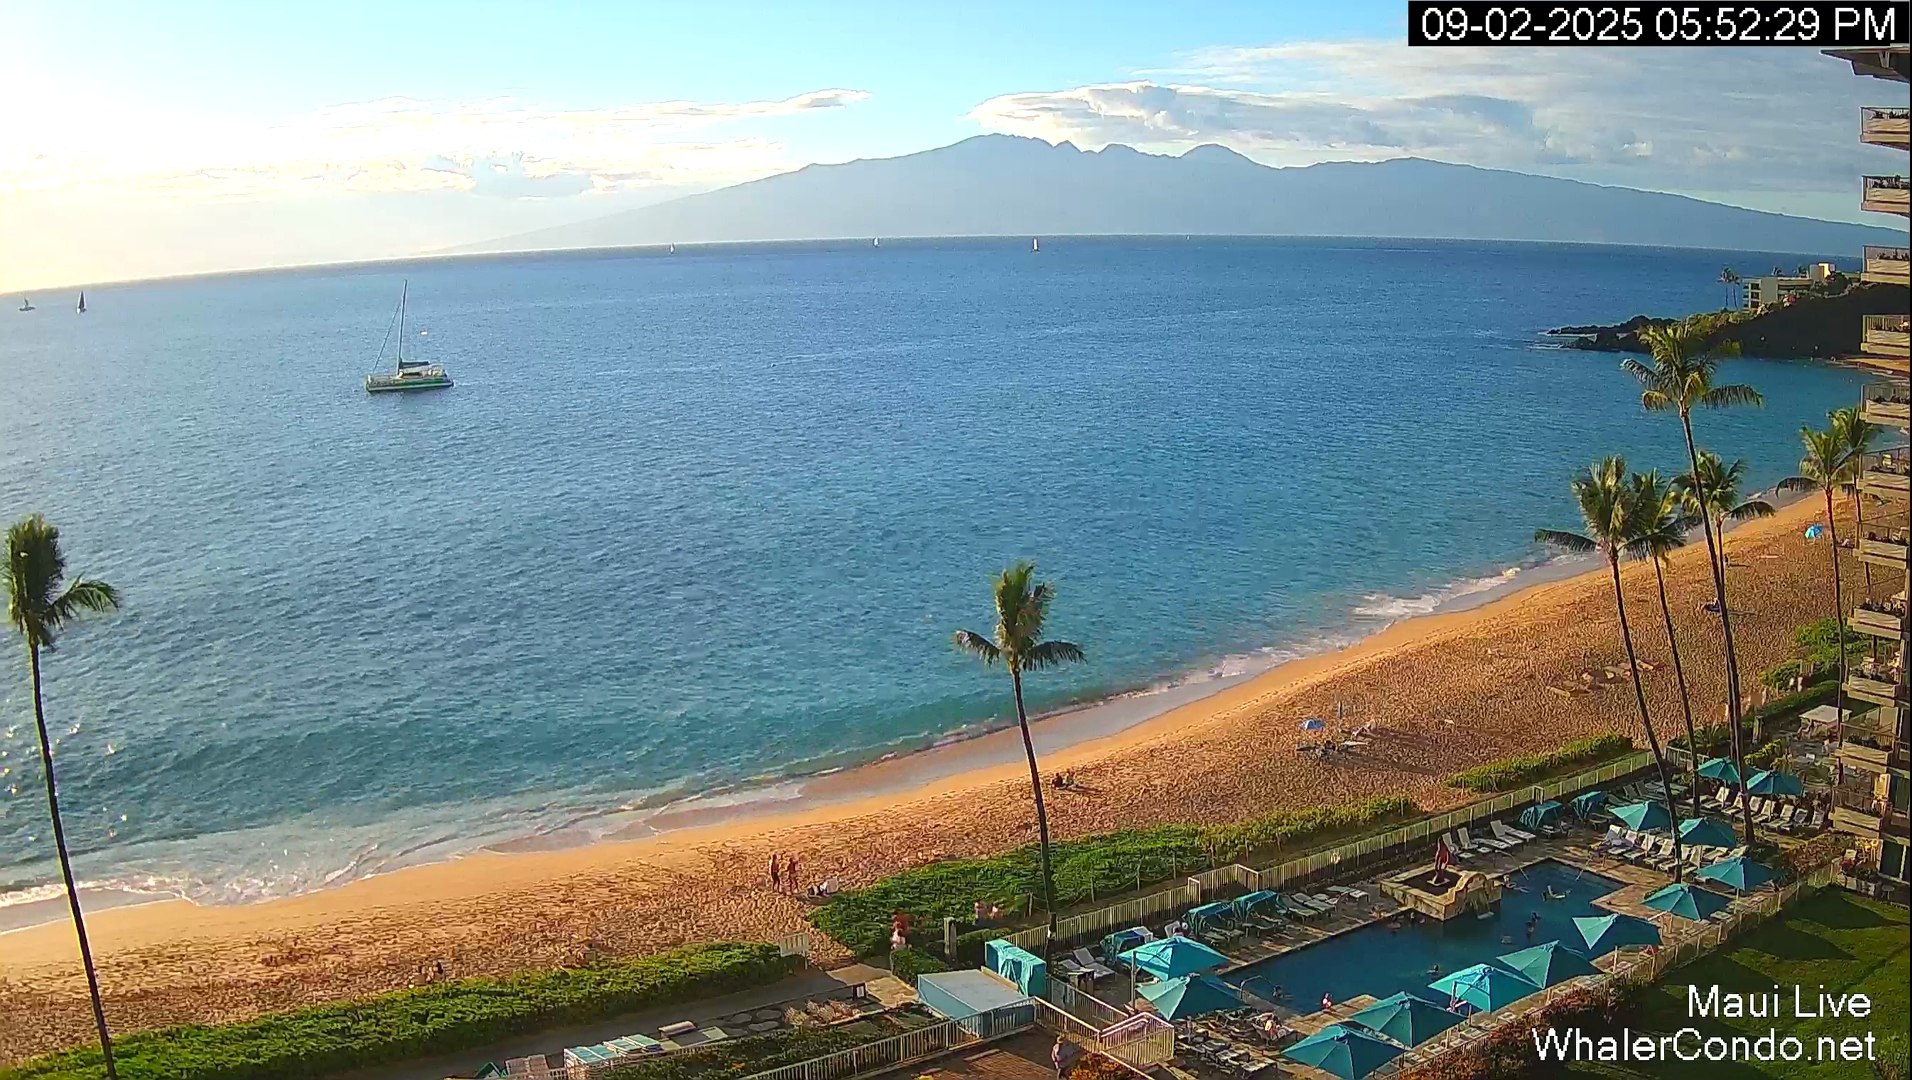boat: (364, 279, 454, 394), (443, 1033, 640, 1080), (76, 290, 87, 314), (18, 298, 36, 312), (1029, 237, 1041, 253), (873, 237, 880, 248)
person: (1050, 1034, 1066, 1078), (786, 857, 800, 893), (769, 852, 781, 892), (890, 928, 905, 950), (1321, 991, 1333, 1010), (1051, 772, 1063, 789)
